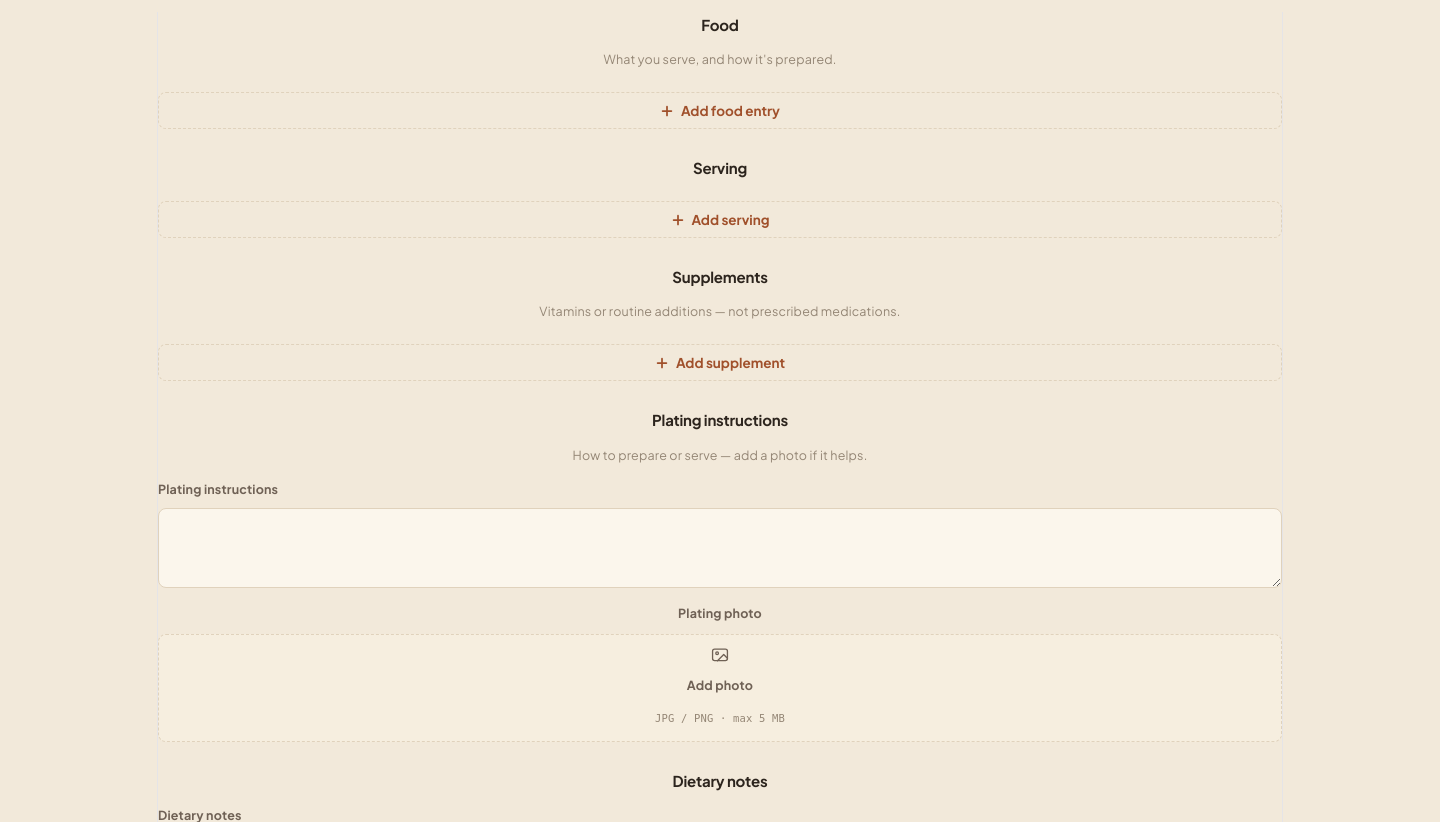
Test: FeedingStep food entries › clicking add food entry appends a row with Brand, Flavor, Texture fields
This screenshot has width=1440, height=822.
Click the button "Add food entry": (720, 111) [158, 92, 1282, 129]
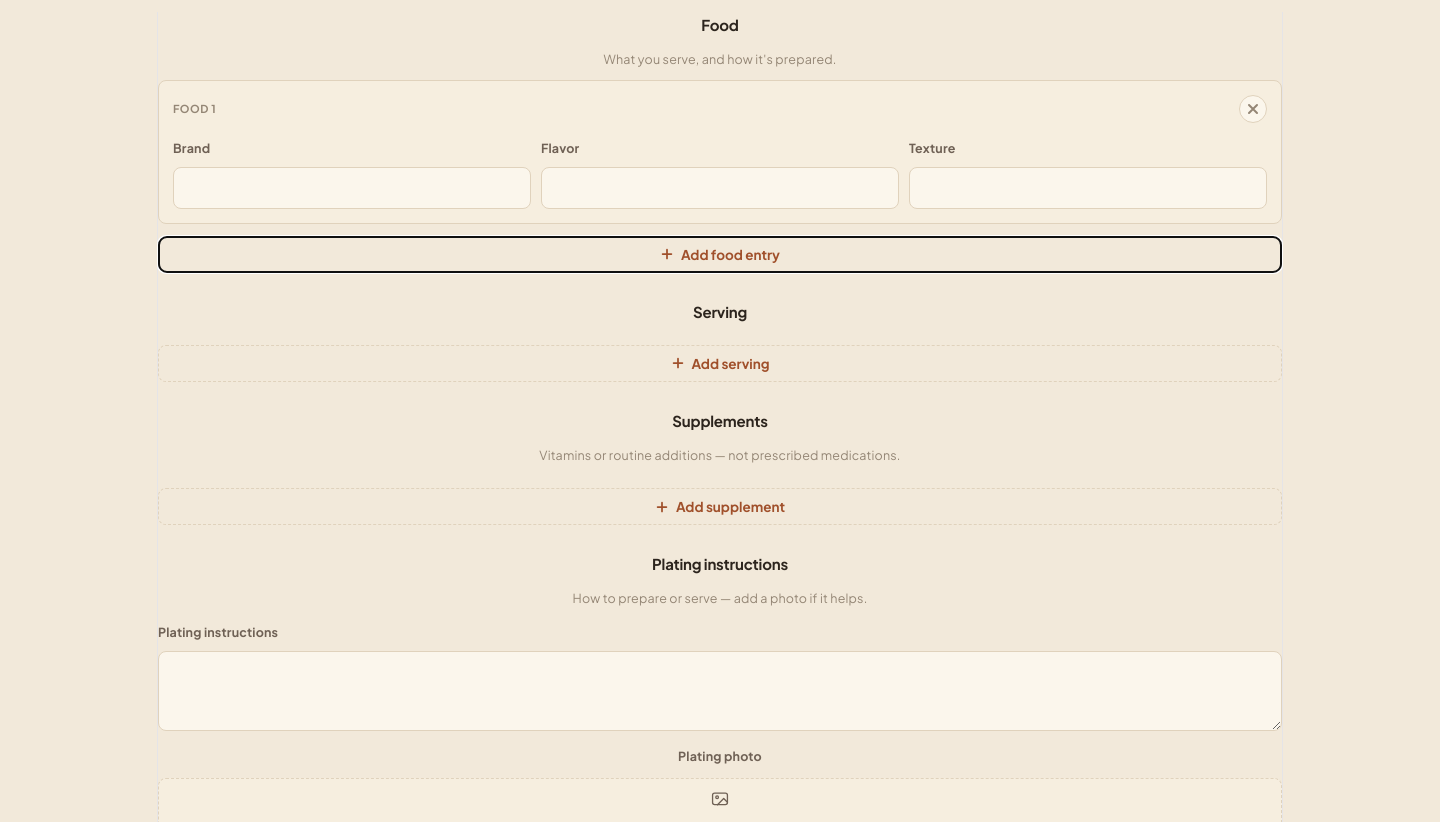
Expected: the field labelled "Brand" is shown, [173, 167, 531, 209]
Expected: the field labelled "Flavor" is shown, [541, 167, 899, 209]
Expected: the field labelled "Texture" is shown, [909, 167, 1267, 209]
